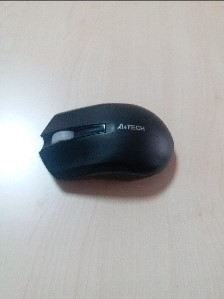mouse: (41, 103, 175, 188)
